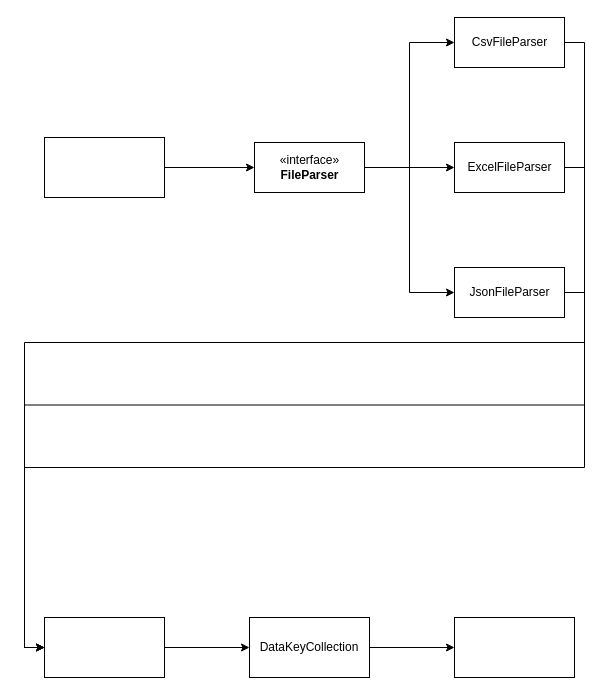
This 610x695 diagram has some shape labels left out. The centre of each missing label's shape, as x and y in pixels:
"DataFile" belongs at (104,647).
"DataKey" belongs at (514,647).
"FileLoader" belongs at (104,167).
